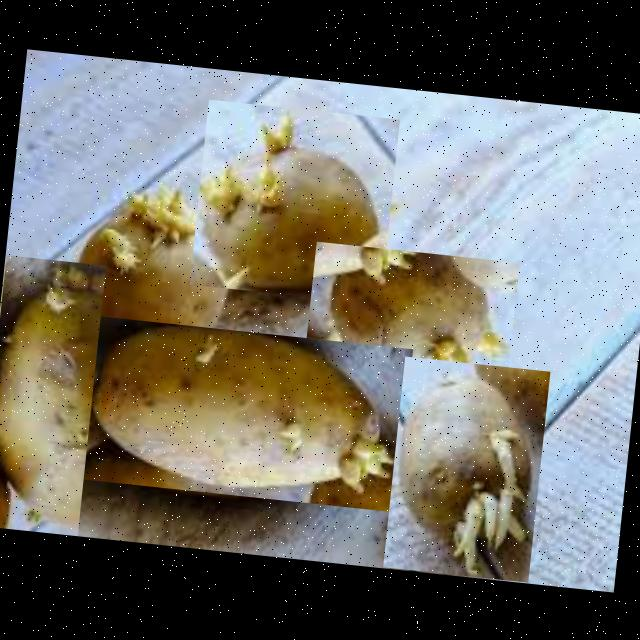Sprouted potato: (71, 315, 412, 512), (189, 99, 399, 304), (382, 356, 550, 582), (301, 241, 519, 410), (64, 172, 237, 368), (0, 255, 105, 536)
